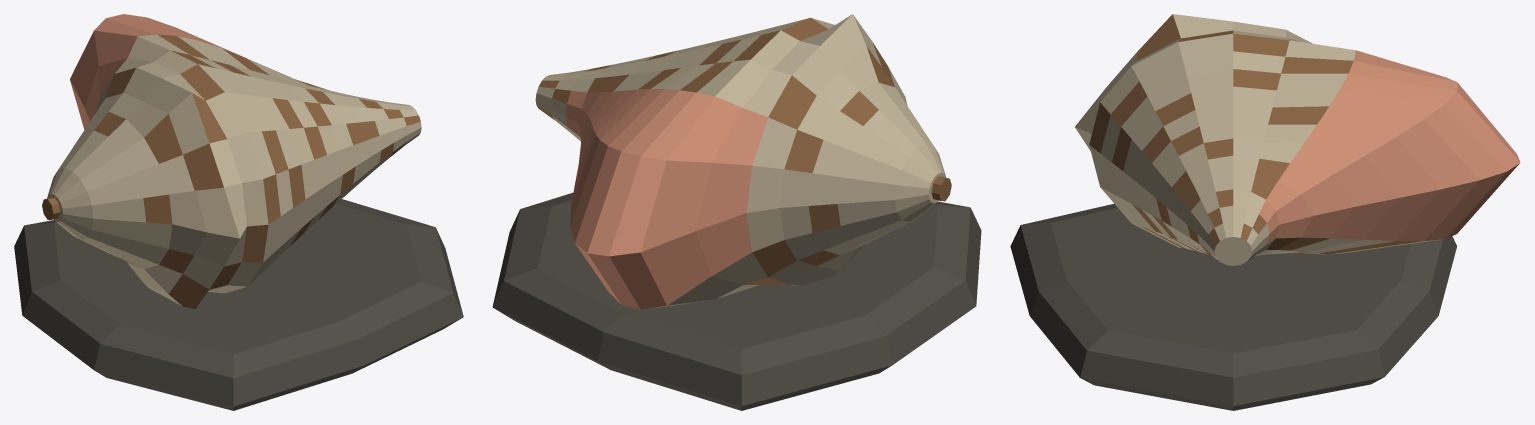
Rendered from pch_pututu.glb.
3 renders of one model, left to right at view 1: azimuth 30°, elevation 25°; view 2: azimuth 150°, elevation 25°; view 3: azimuth 270°, elevation 25°, orthographic. The views are drawn at different scales.
Parts seen in each view (by area): view 1: pch_pututu; view 2: pch_pututu; view 3: pch_pututu.
Part boxes in pixels (x1=…): pch_pututu: x1=14, y1=14, x2=463, y2=410; pch_pututu: x1=492, y1=14, x2=981, y2=410; pch_pututu: x1=1010, y1=14, x2=1520, y2=410.
Size of the model in its own units: 0.445 by 0.2784 by 0.4848.
